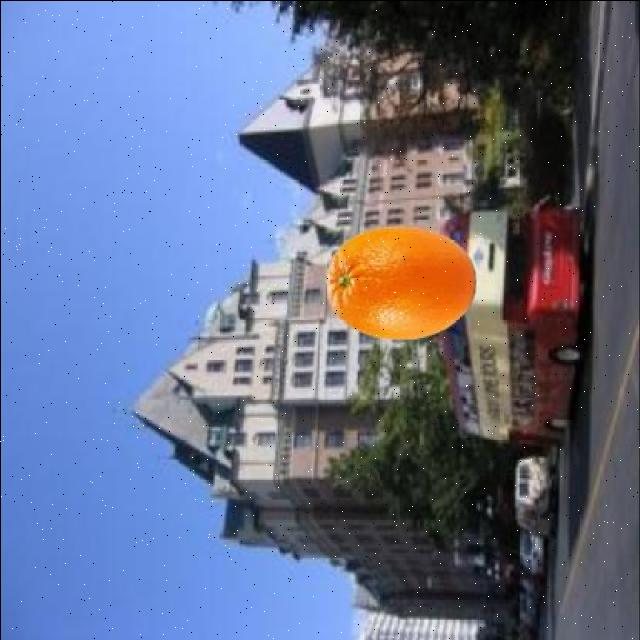Orange: (326, 225, 477, 343)
